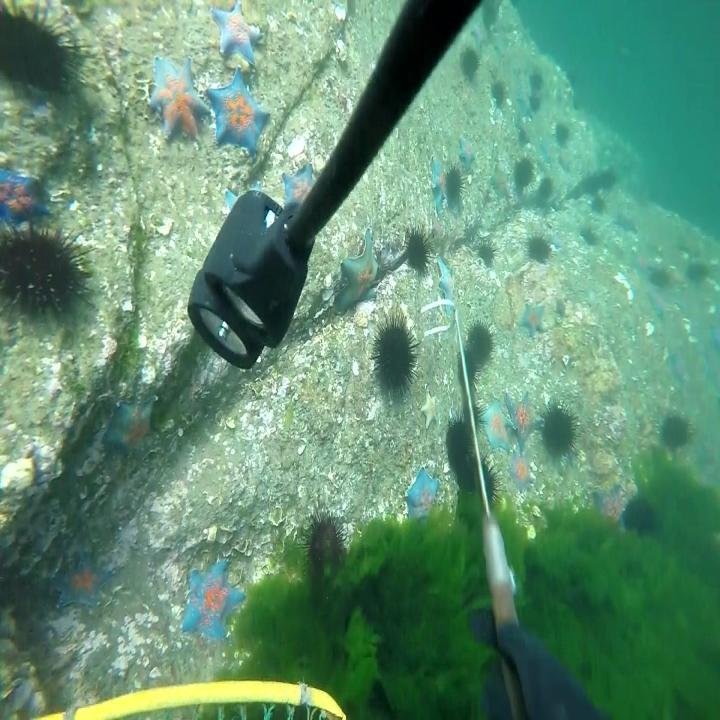echinus: (0, 217, 97, 324), (0, 0, 95, 103), (369, 305, 425, 399), (294, 500, 349, 585), (539, 393, 582, 464), (445, 404, 476, 469), (464, 310, 498, 369), (402, 220, 437, 275), (622, 490, 659, 538), (473, 456, 505, 510), (660, 411, 696, 457), (456, 448, 483, 494), (442, 159, 468, 204), (456, 346, 481, 391), (524, 229, 556, 264), (463, 397, 490, 438), (515, 154, 537, 193), (460, 44, 482, 82), (479, 0, 505, 32), (475, 235, 500, 268), (686, 258, 710, 288), (650, 264, 672, 290), (492, 79, 507, 110), (554, 121, 571, 148), (537, 176, 552, 200), (530, 69, 544, 93), (601, 168, 616, 190), (582, 225, 597, 247), (591, 194, 606, 214), (585, 174, 597, 196), (529, 95, 541, 113), (566, 70, 577, 89), (518, 128, 527, 144)
starfish: (204, 62, 272, 157), (180, 554, 247, 646), (148, 51, 210, 144), (335, 226, 381, 316), (51, 548, 116, 609), (210, 0, 266, 62), (0, 162, 51, 229), (222, 176, 284, 231), (104, 396, 155, 458), (504, 386, 543, 457), (402, 463, 442, 524), (480, 394, 516, 457), (281, 158, 319, 209), (591, 481, 626, 525), (436, 253, 456, 320), (677, 282, 706, 328), (428, 152, 448, 217), (507, 447, 532, 493), (518, 299, 546, 338), (420, 387, 440, 432), (702, 349, 720, 388), (458, 134, 476, 172), (617, 204, 639, 234), (670, 348, 688, 384), (650, 289, 666, 317), (632, 255, 649, 281), (557, 148, 574, 173), (472, 26, 488, 49), (518, 75, 534, 97), (517, 95, 533, 117), (550, 232, 568, 250), (540, 139, 553, 163), (711, 324, 720, 348)
